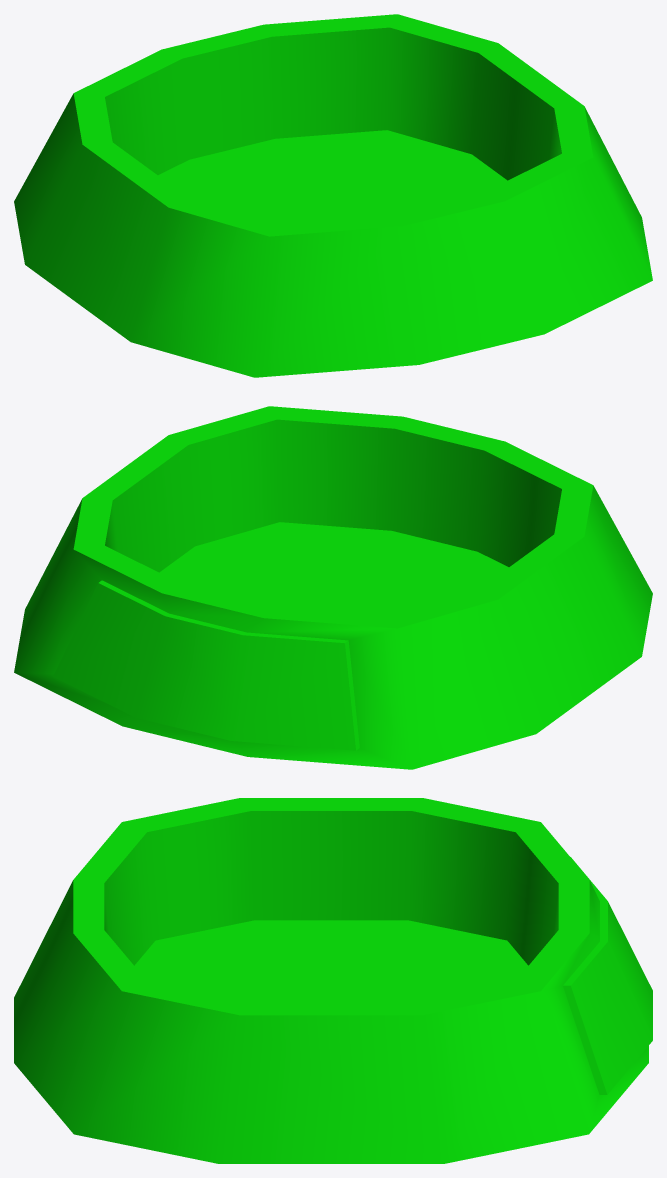
File: PlatoPet01.fbx
The picture shows the model from 3 angles, top to bottom: view 1: azimuth 30°, elevation 25°; view 2: azimuth 150°, elevation 25°; view 3: azimuth 270°, elevation 25°; orthographic projection. The views are drawn at different scales.
Visible parts, largest first — view 1: pCube265; view 2: pCube265; view 3: pCube265.
Boxes of the visible parts, <box> form: pCube265: <box>14,14,652,377</box>; pCube265: <box>14,406,652,769</box>; pCube265: <box>14,798,652,1163</box>.
Bounding box in the file's own units: 0.4161 × 0.09 × 0.4209.
